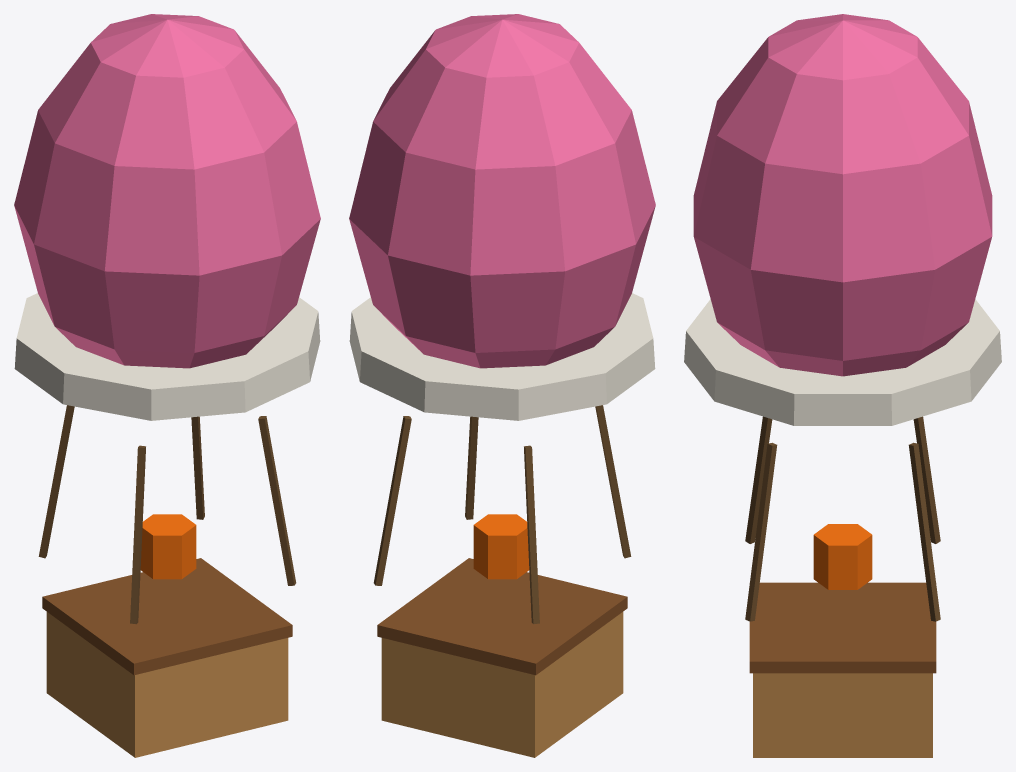
File: sky_balloon_small.glb
3 views of the same model, side by side, from view 1: azimuth 30°, elevation 25°; view 2: azimuth 150°, elevation 25°; view 3: azimuth 270°, elevation 25° (orthographic).
Visible parts, largest first — view 1: balloon_small; view 2: balloon_small; view 3: balloon_small.
Part boxes in pixels (x1,y1,x2,y2): balloon_small: (14, 14, 320, 757); balloon_small: (349, 14, 655, 757); balloon_small: (684, 14, 1001, 757).
Bounding box in the file's own units: 1.92 × 4.72 × 1.94.
